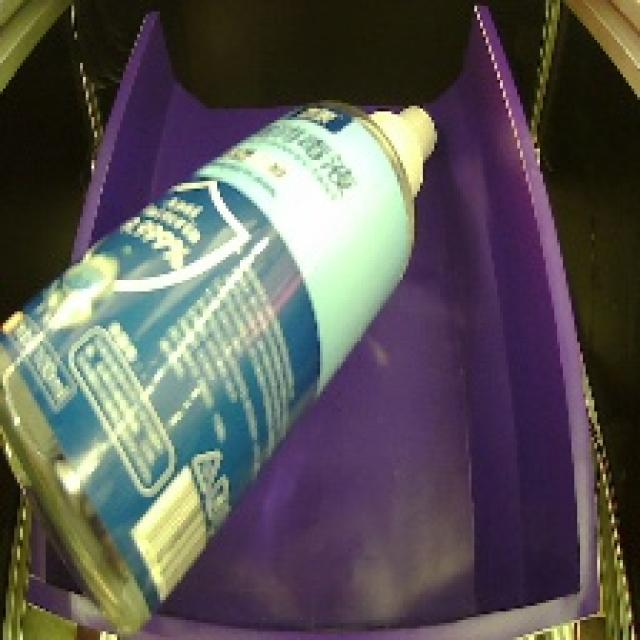plastic: (0, 91, 451, 639)
